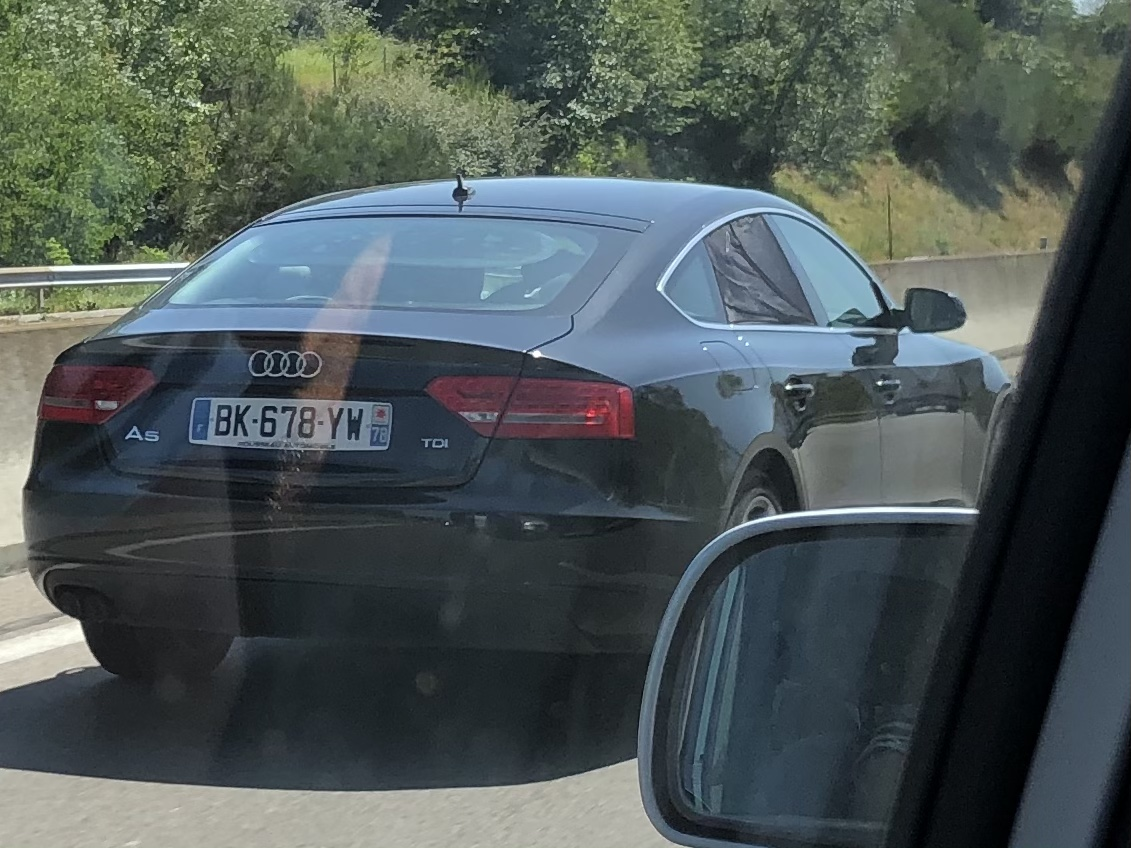licence plate: (187, 392, 394, 457)
